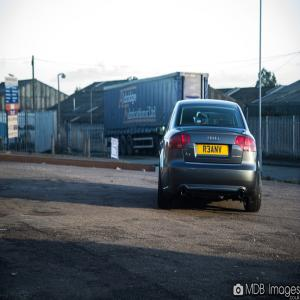Vehicle-registration-plate: (198, 144, 231, 156)
